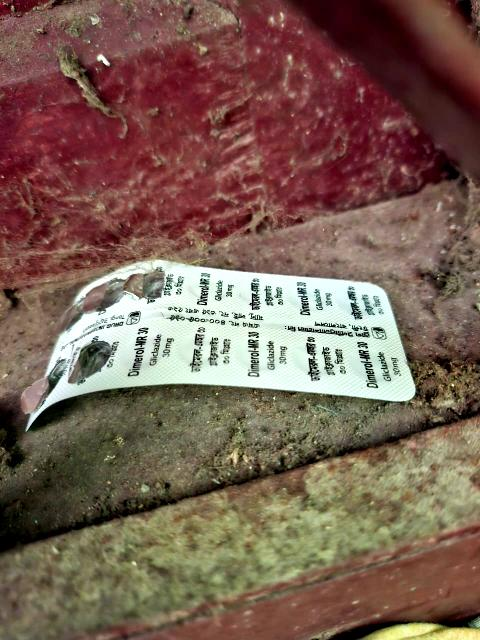medicine: (47, 261, 426, 404)
